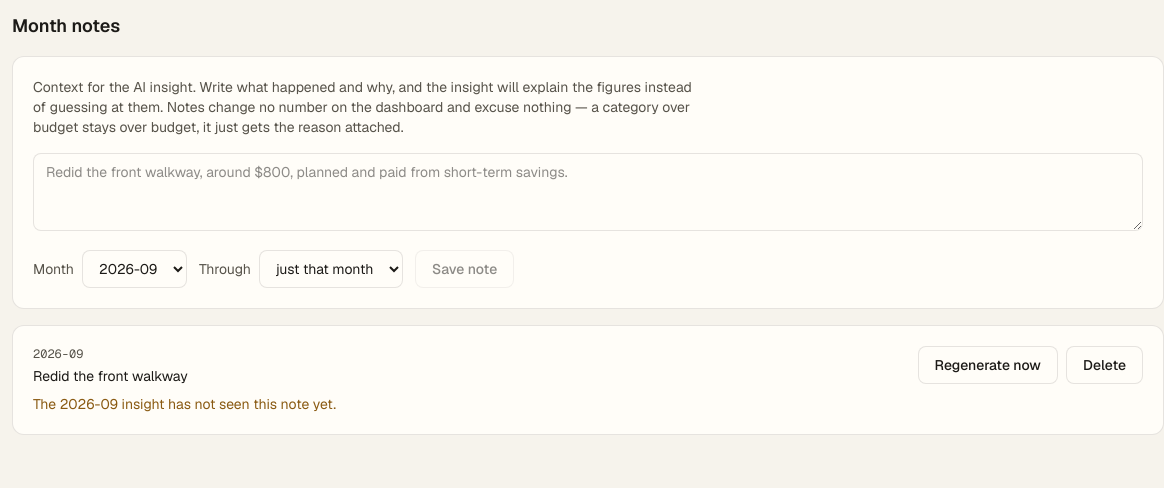
Test: an endpoint that keeps erroring is not blamed on whatever is in front of it
Check: the text "Redid the front walkway" is shown, box [33,367,188,385]
Click the button "Regenerate now".
click(988, 365)  # box [918,346,1058,384]
Wait 122000 ms
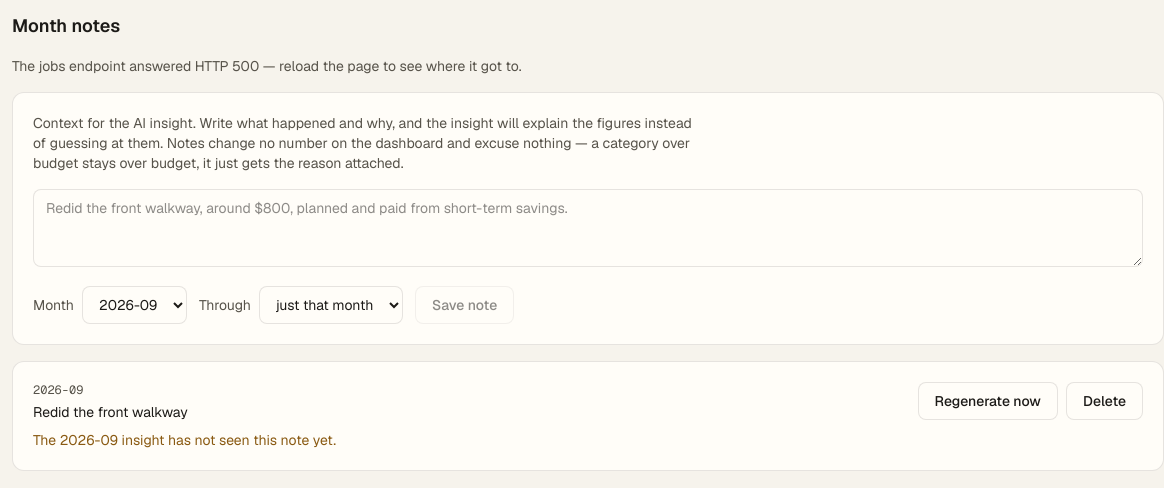
Check: the text "The jobs endpoint answered HTTP 500 — reload the page to see where it got to." is shown, box [12,57,522,75]
